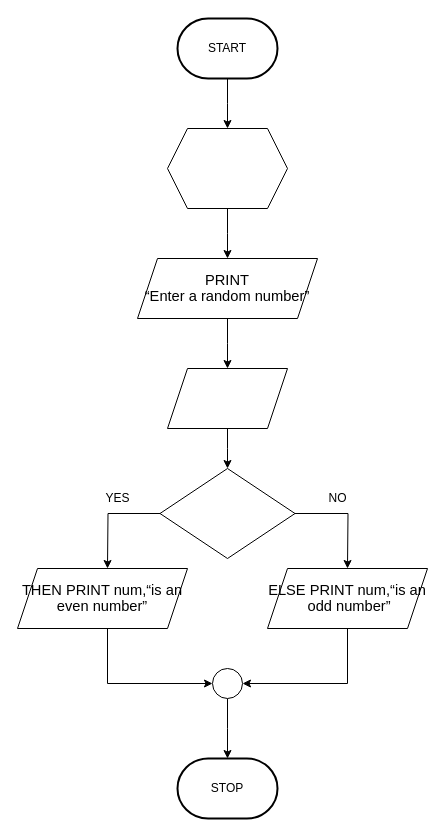
The diagram is 445 pixels wide and 836 high, and some of its shapes have lost their labels. Each missing label, with the box of its shape:
DECLARE num as INTEGER: (166, 128, 288, 208)
IF num % 2 == 0: (159, 468, 295, 558)
READ“num”: (166, 368, 288, 428)
